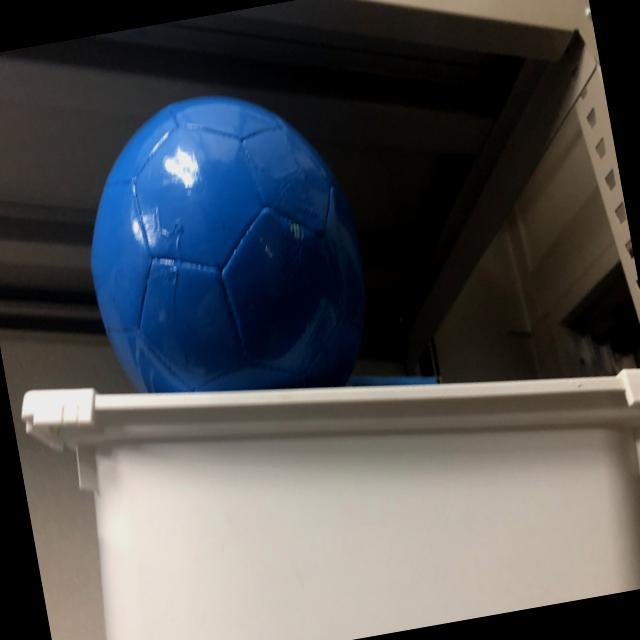blue_ball: (59, 73, 383, 427)
